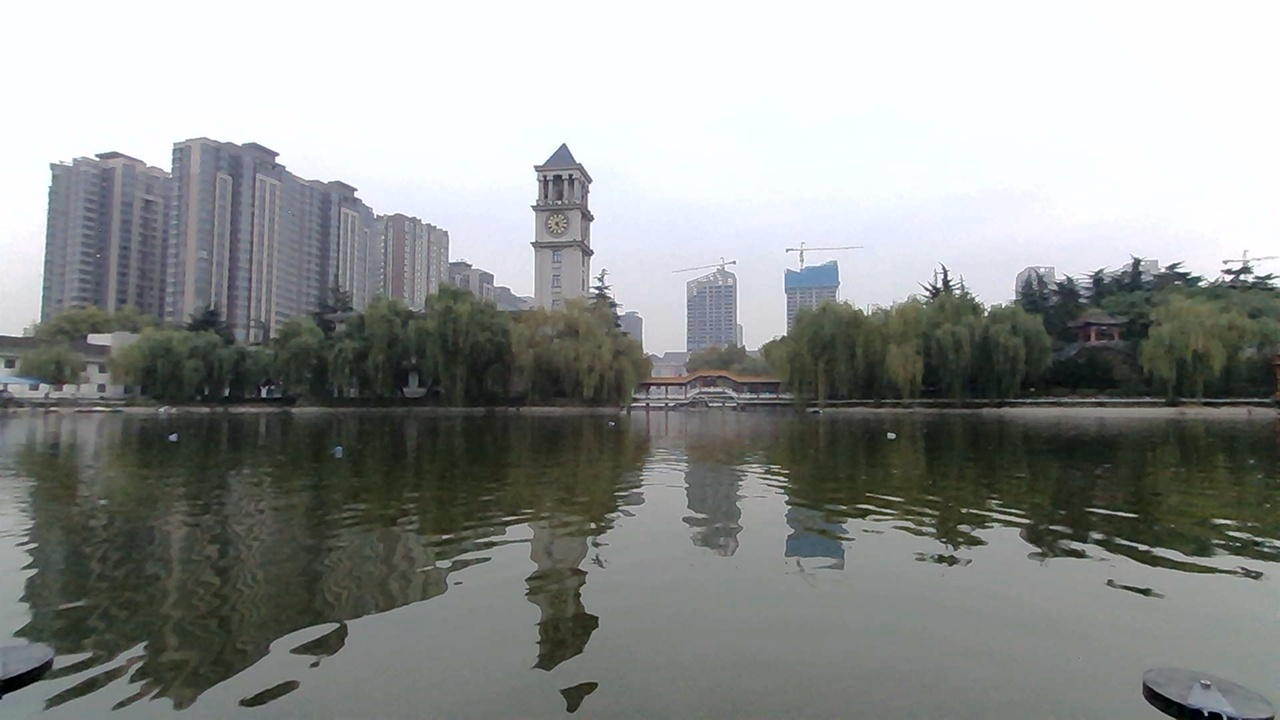bottle: (866, 428, 904, 449), (324, 441, 358, 463), (162, 420, 183, 448)
